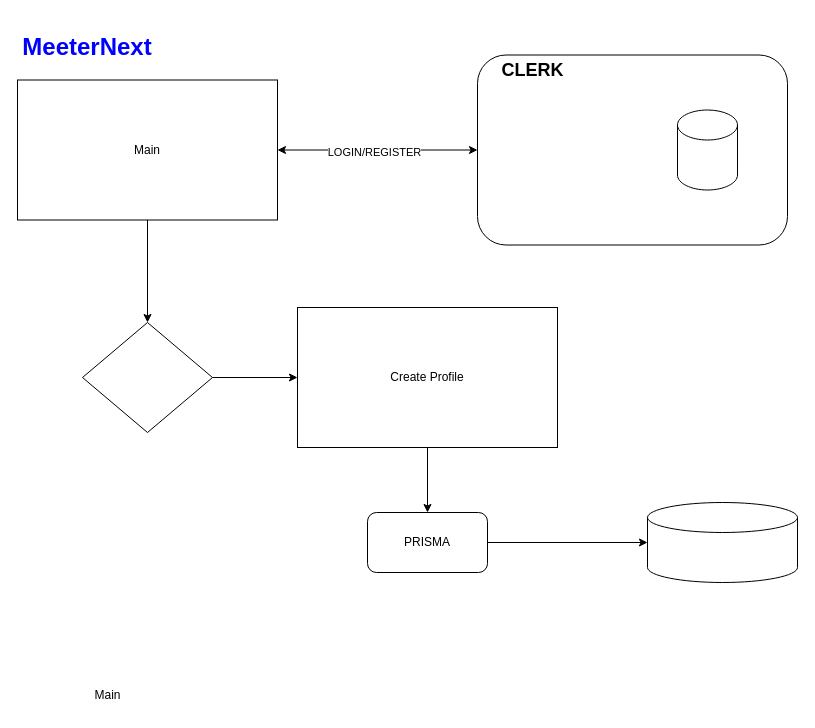
Some shapes in this 815 by 728 pixel diagram are drawn without their labels. The centre of each missing label's shape, as x and y in pixels:
SUPABASE: the point at 722,542
user.hasProfile: the point at 147,377
